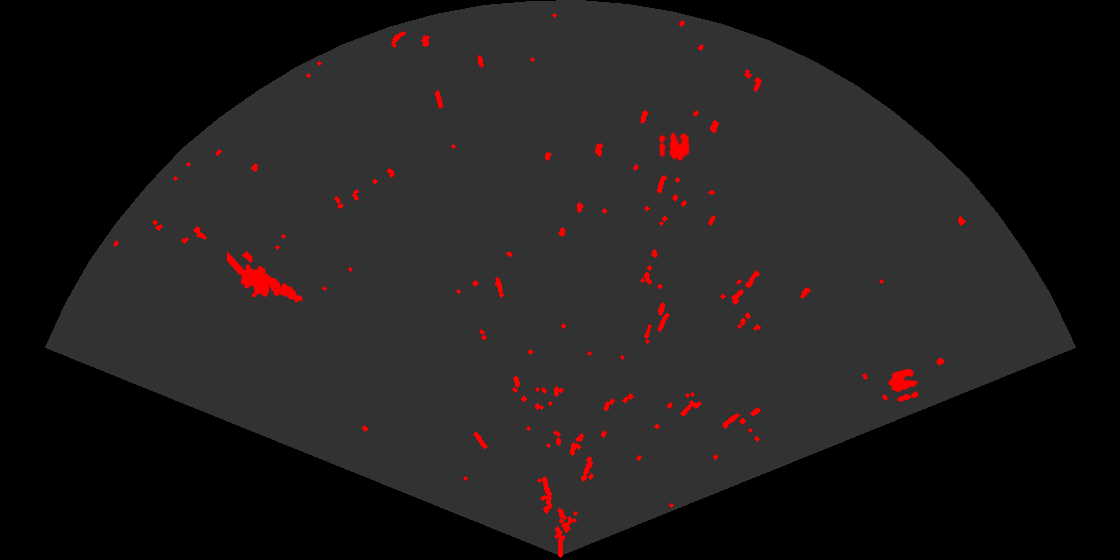ball: (887, 367, 921, 403), (657, 131, 691, 163)
frogman: (227, 250, 304, 304)
